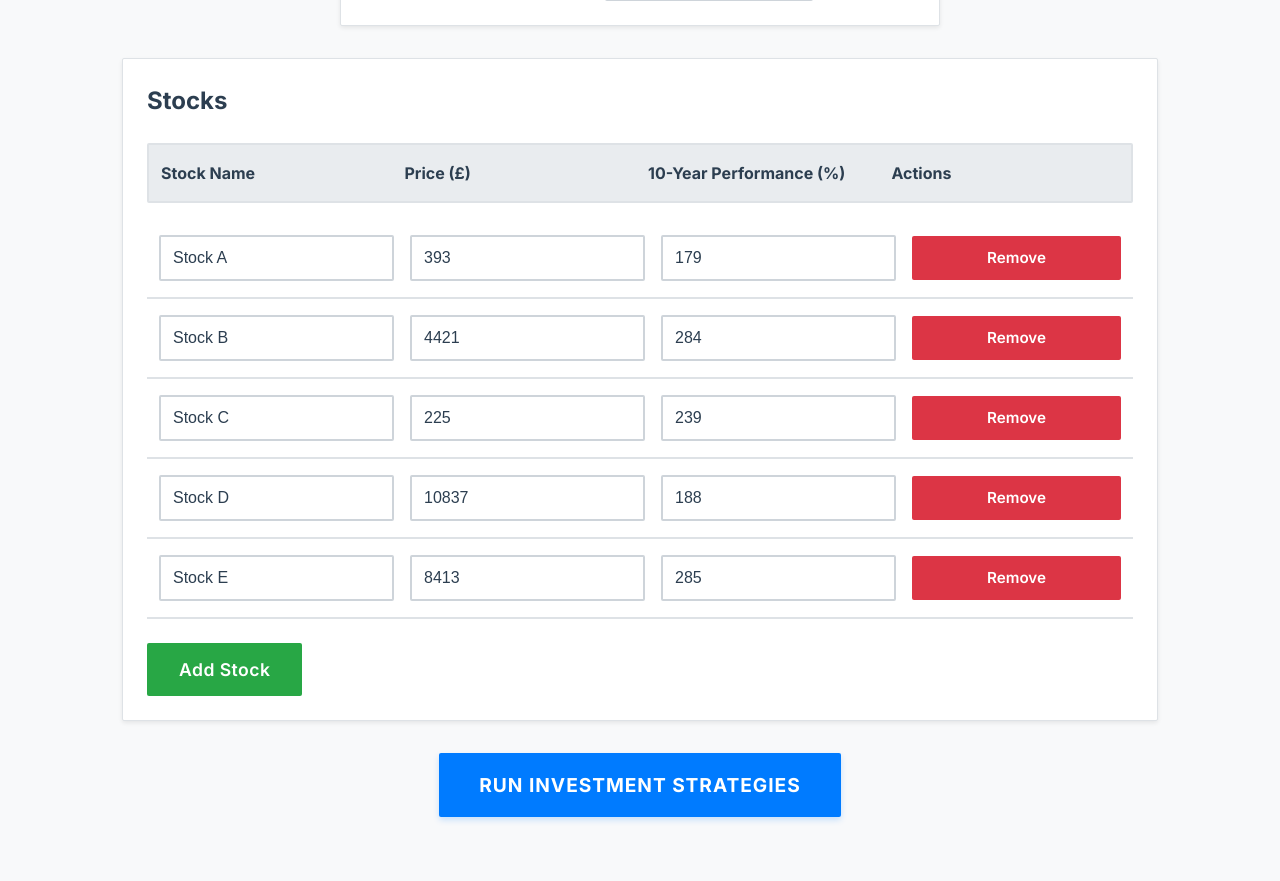
Scenario: PortfolioOptimizer › disables run button when loading
(page scrolled)
Click the button "Run Investment Strategies" at (640, 785), box [439,753,841,817]
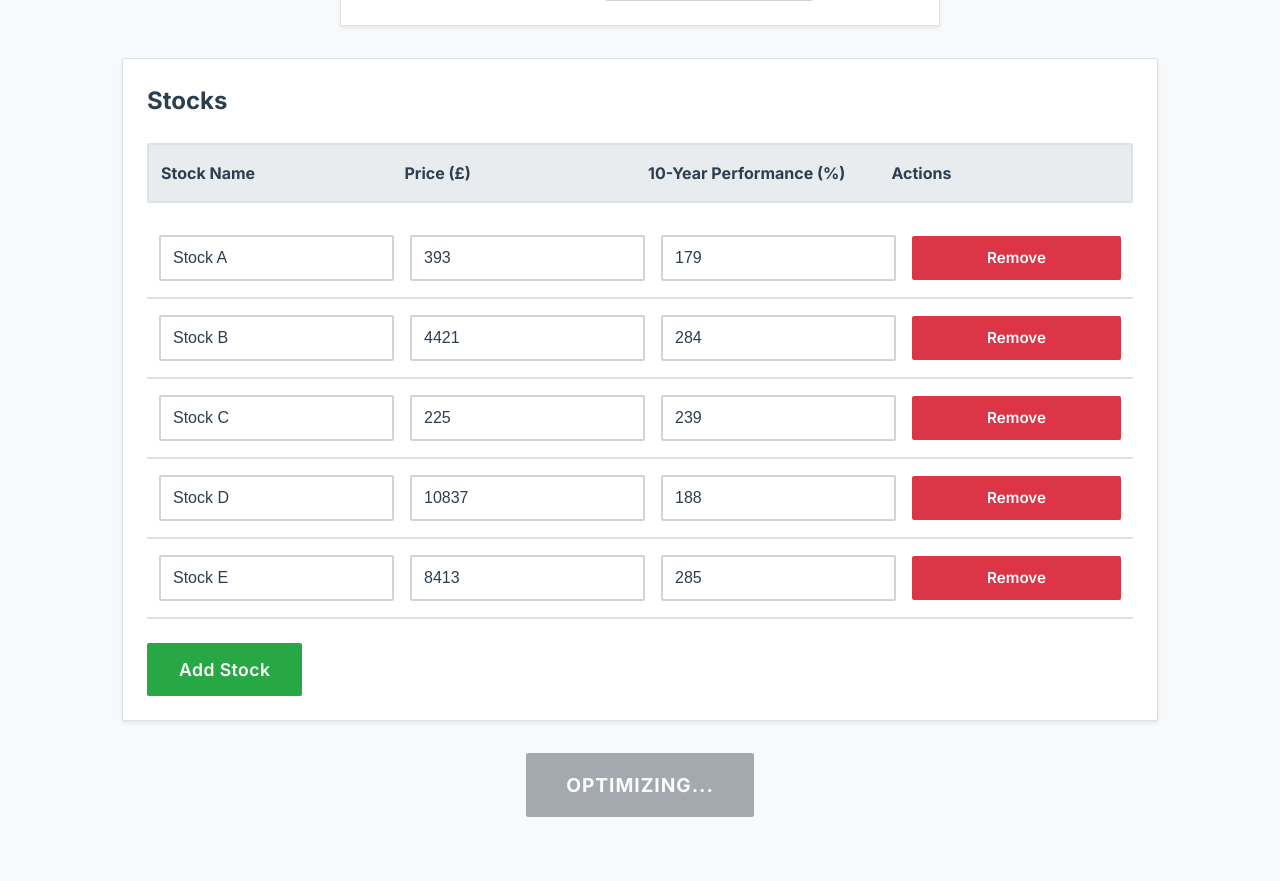
Now the button named "run investment strategies" is disabled, box [526,753,754,817]
Now the button named "run investment strategies" reads "Optimizing...", box [526,753,754,817]
